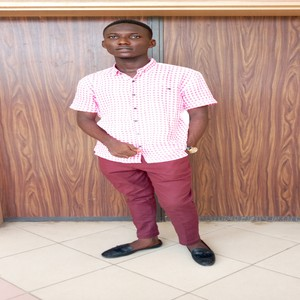Fulokoja_male_student: (89, 24, 214, 263)
